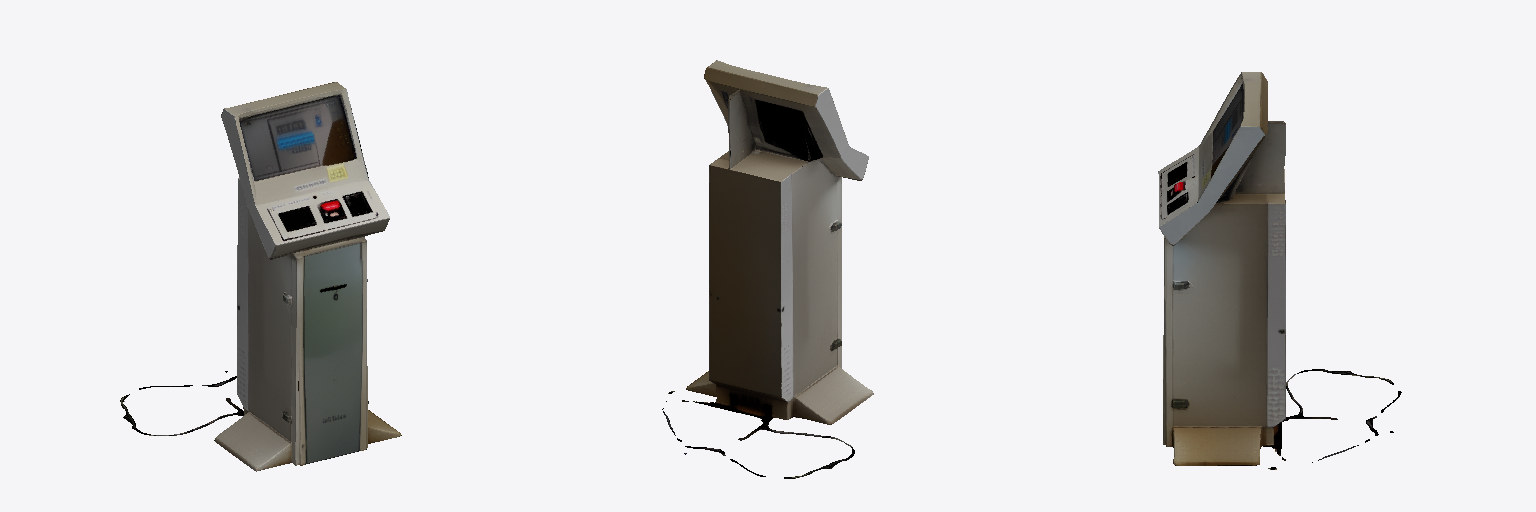
3 renders of one model, left to right at view 1: azimuth 30°, elevation 25°; view 2: azimuth 150°, elevation 25°; view 3: azimuth 270°, elevation 25°, orthographic.
Visible parts, largest first — view 1: geometry_0; view 2: geometry_0; view 3: geometry_0.
Part boxes in pixels (x1,y1,x2,y2): geometry_0: (120, 82, 401, 471); geometry_0: (662, 60, 873, 478); geometry_0: (1158, 72, 1401, 469).
Size of the model in its own units: 0.6526 by 1 by 0.6717.
Materials: 1 (1 with a texture image).